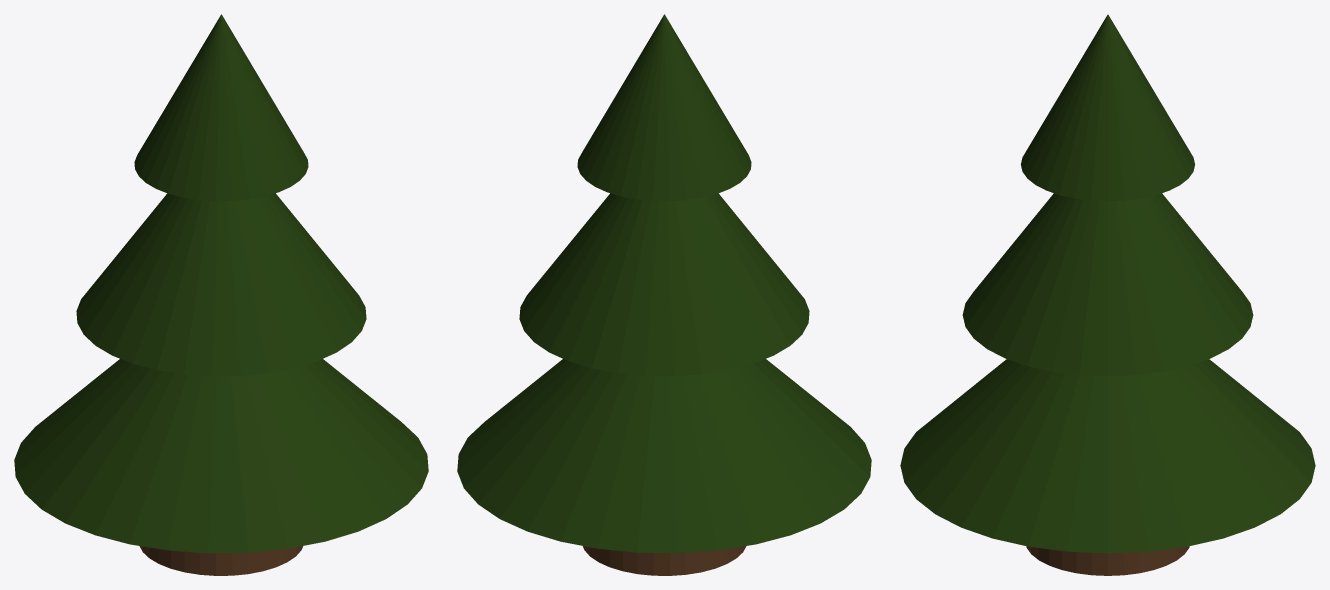
File: spruce.glb
3 renders of one model, left to right at view 1: azimuth 30°, elevation 25°; view 2: azimuth 150°, elevation 25°; view 3: azimuth 270°, elevation 25°, orthographic.
Parts seen in each view (by area): view 1: Cylinder; view 2: Cylinder; view 3: Cylinder.
Part boxes in pixels (bbox=[...]): Cylinder: bbox=[14, 14, 428, 575]; Cylinder: bbox=[457, 14, 871, 575]; Cylinder: bbox=[900, 14, 1315, 575].
Size of the model in its own units: 2.5 by 3.5 by 2.5.
